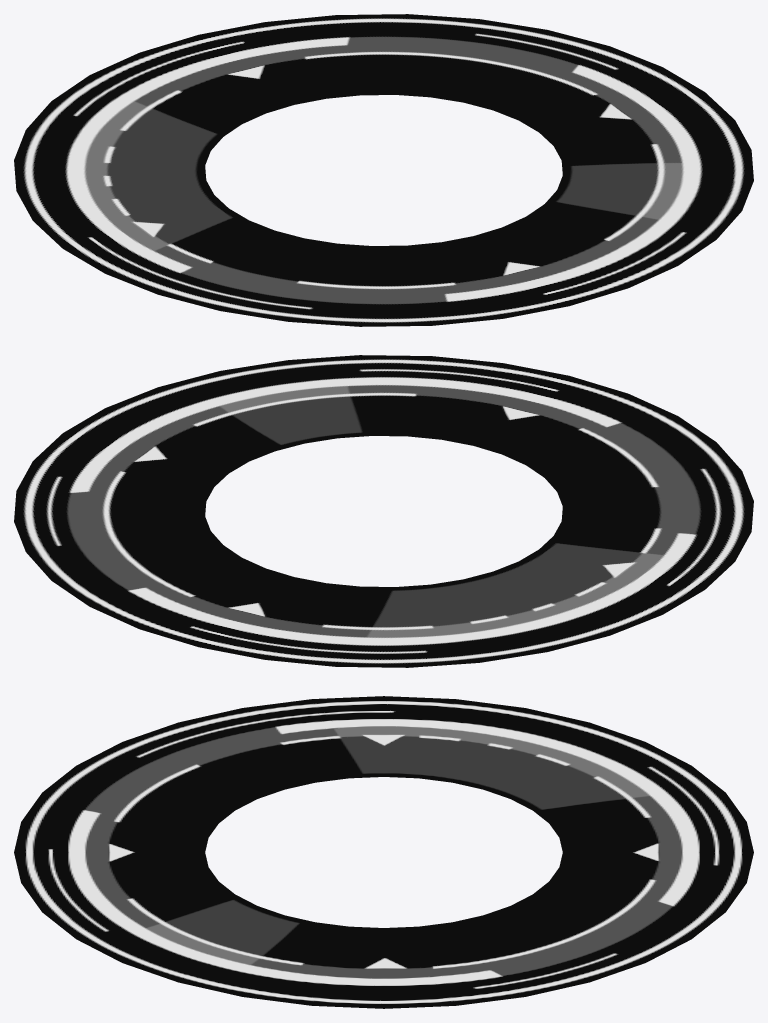
The model's file is Plane_Shild_01.fbx.
3 views of the same model, one above another, from view 1: azimuth 30°, elevation 25°; view 2: azimuth 150°, elevation 25°; view 3: azimuth 270°, elevation 25° (orthographic).
Parts seen in each view (by area): view 1: pCylinder3; view 2: pCylinder3; view 3: pCylinder3.
Boxes of the visible parts, x1,y1,x2,y2 form: pCylinder3: [14, 14, 753, 326]; pCylinder3: [14, 355, 753, 667]; pCylinder3: [14, 696, 753, 1008].
Bounding box in the file's own units: 3.93 × 0 × 3.93.
